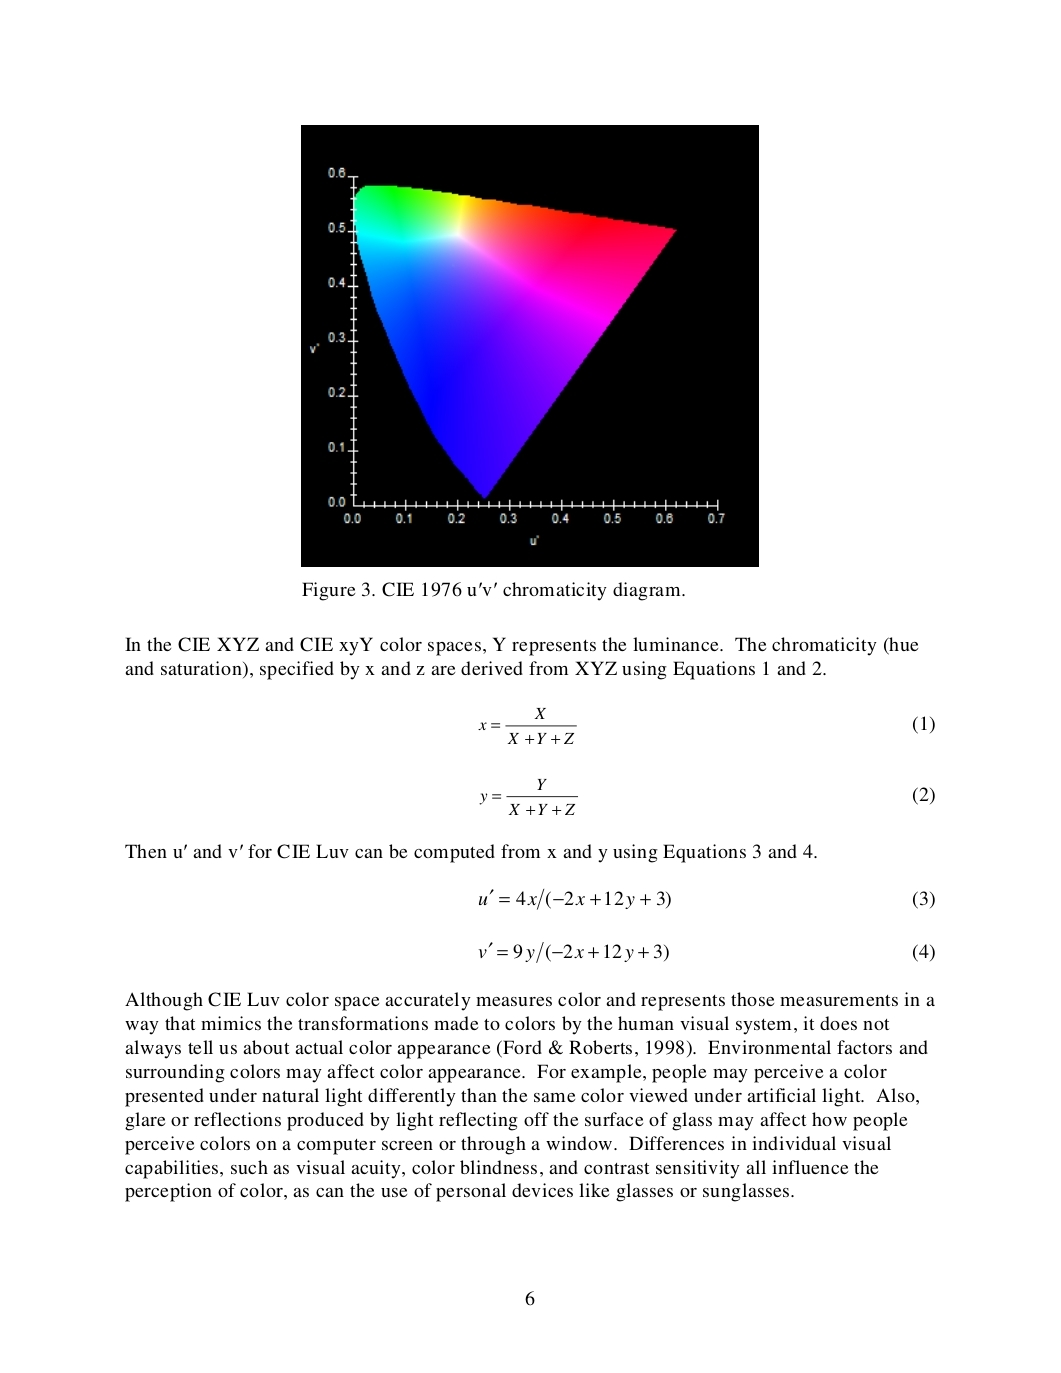figure: (301, 124, 758, 567)
formula: (478, 705, 934, 744), (479, 777, 934, 815), (478, 887, 934, 911), (478, 941, 934, 963)
